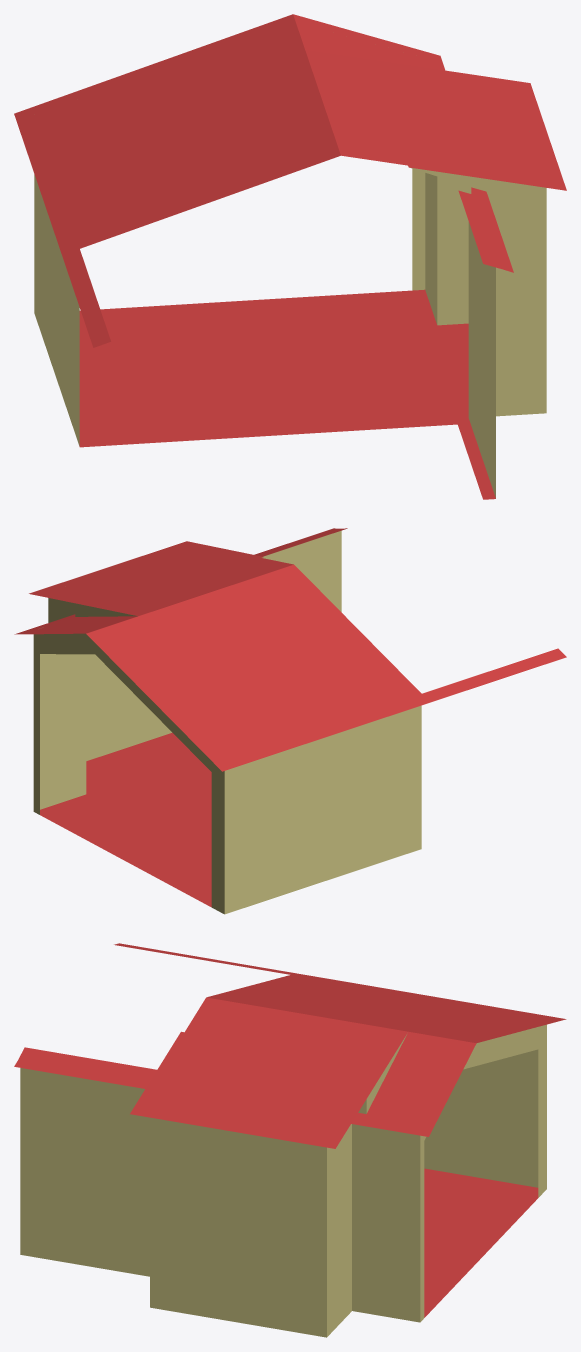
3 renders of one model, top to bottom at view 1: azimuth 30°, elevation 25°; view 2: azimuth 150°, elevation 25°; view 3: azimuth 270°, elevation 25°, orthographic. The views are drawn at different scales.
Bounding box in the file's own units: 18.05 × 17.84 × 8.46.
